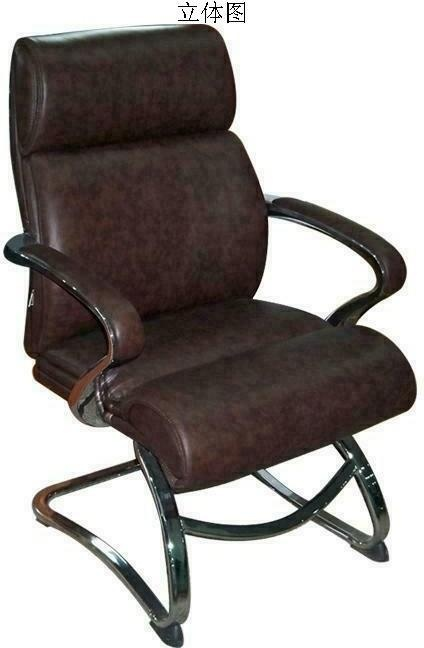obstacle: (5, 25, 415, 647)
